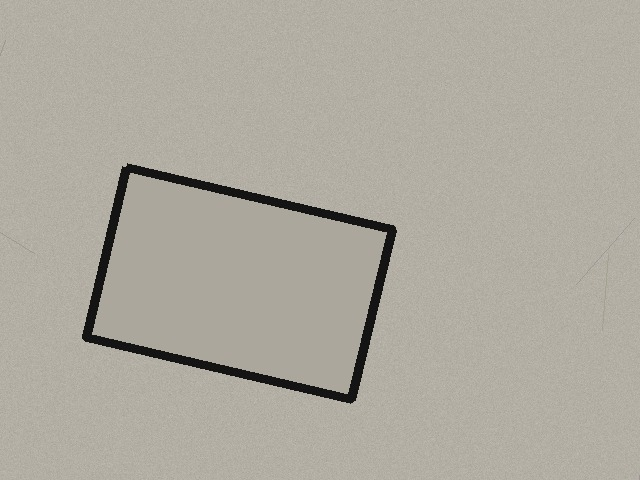parking_area: (86, 167, 392, 399)
